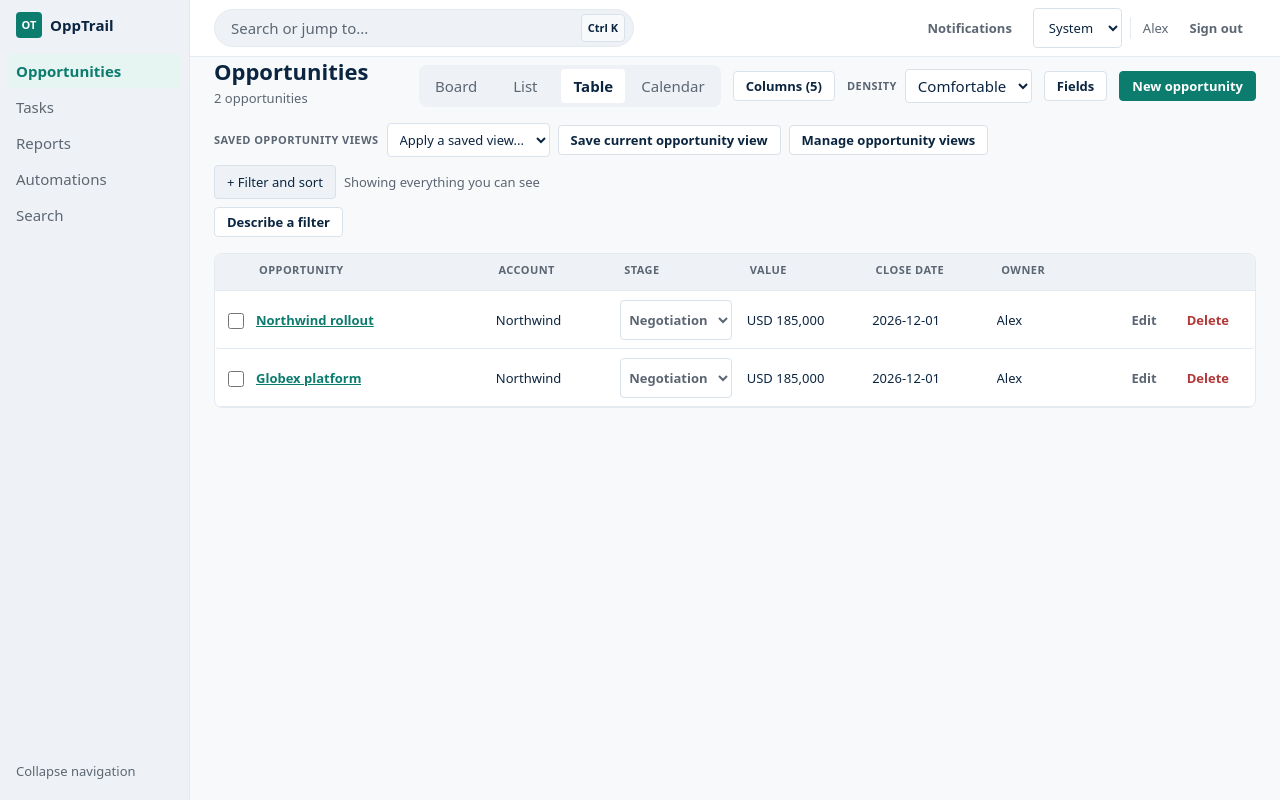
Test: a select field appears in the three places §3 names › is a column the table can draw
Expected: the heading "Opportunities" is shown, [214,57,368,85]
Expected: the link "Northwind rollout" is shown, [256,311,374,329]
Click the button "Columns (5)" at {"x": 784, "y": 86}, box [733,71,835,101]
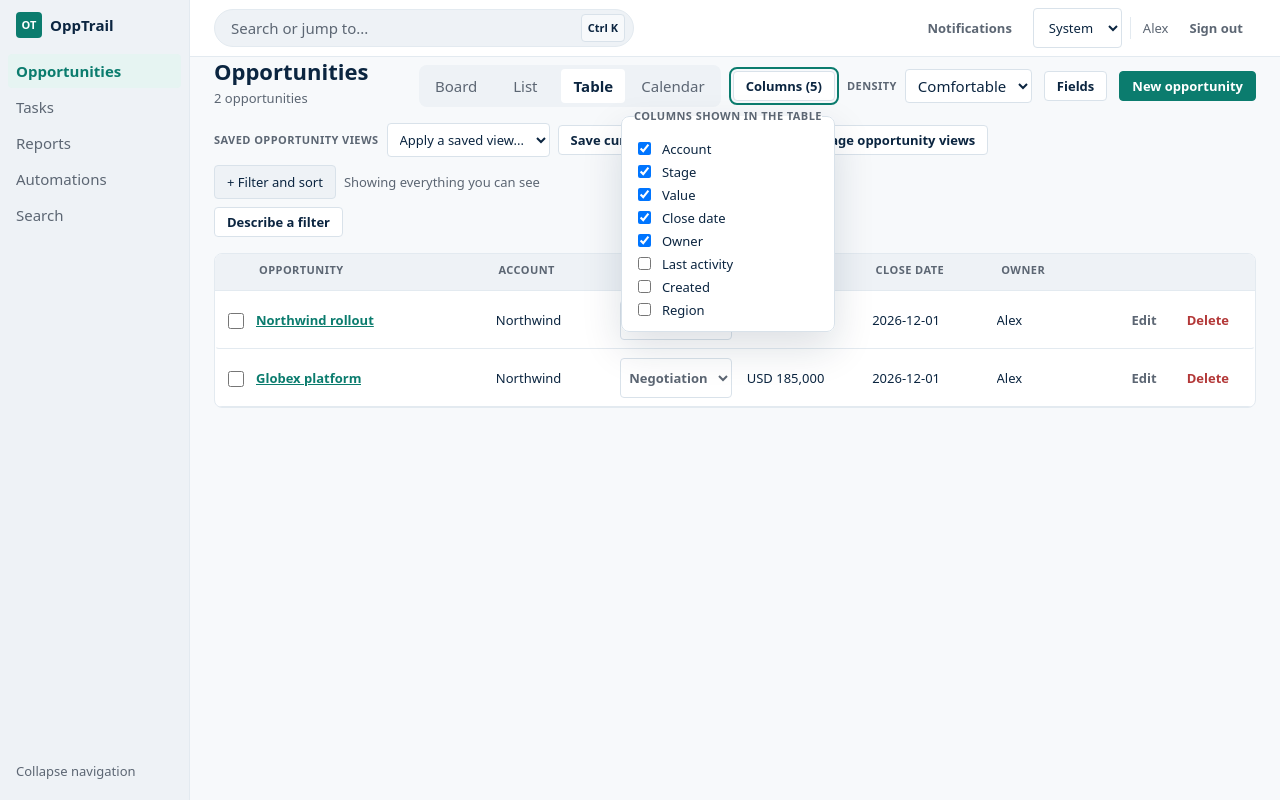
Click the checkbox labelled "Region" at {"x": 644, "y": 310}, box [638,303,651,316]
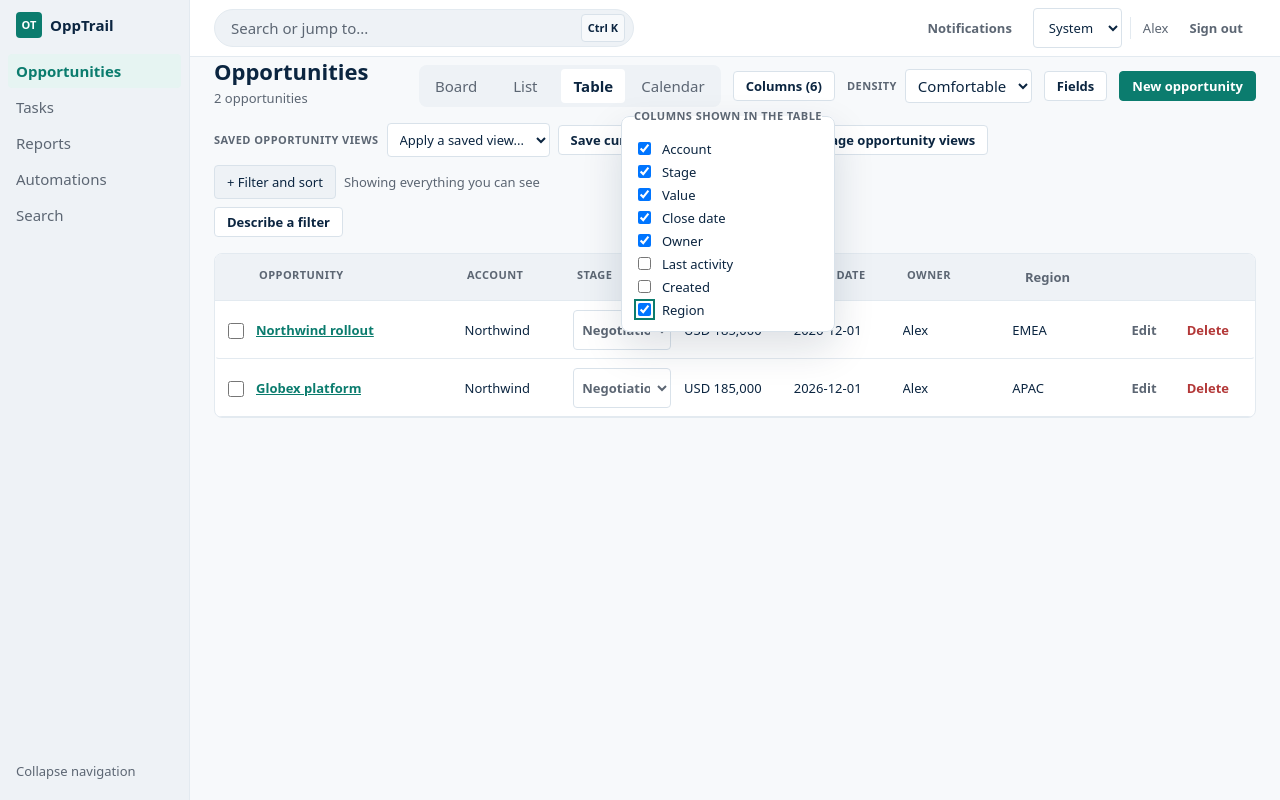
Expected: the text "EMEA" is shown, [1012,321,1058,339]
Expected: the text "APAC" is shown, [1012,379,1058,397]
